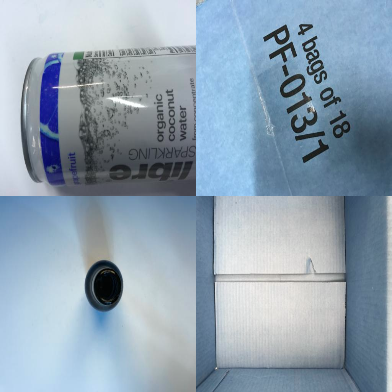cardboard: (195, 1, 391, 194), (195, 195, 386, 392)
glass: (83, 260, 124, 311)
metal: (21, 45, 194, 185)
